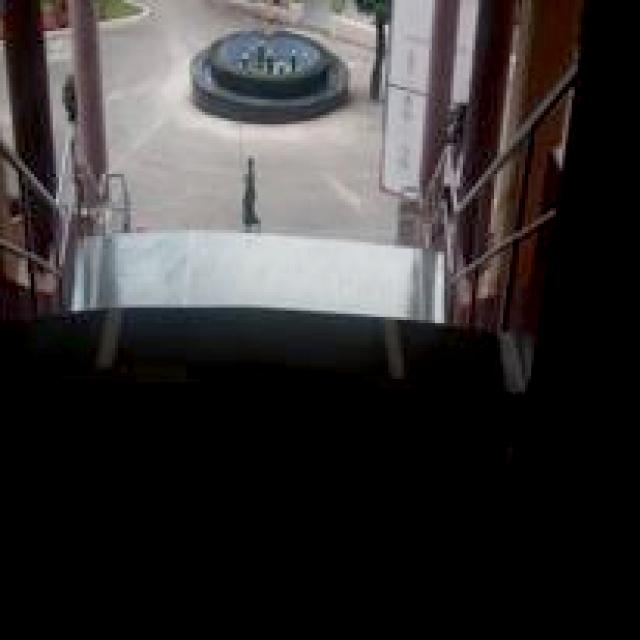downstair: (91, 259, 411, 380)
